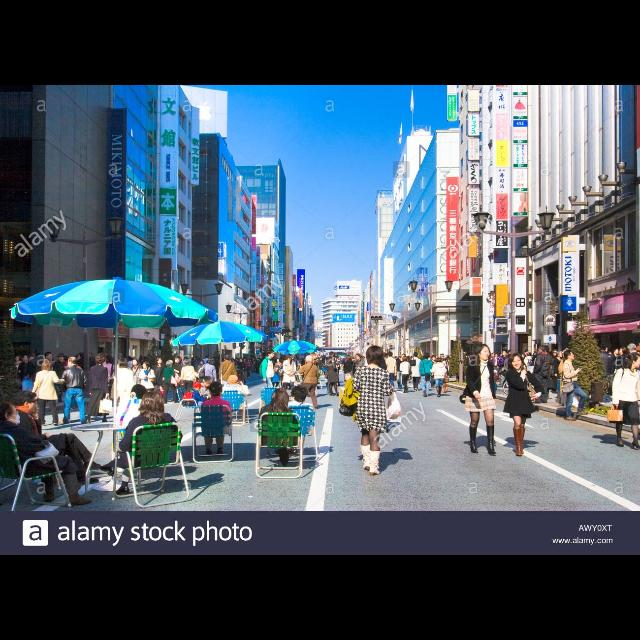head: (16, 392, 38, 414), (0, 403, 20, 425), (144, 392, 164, 413), (271, 389, 291, 409), (366, 346, 384, 364), (290, 387, 308, 403), (477, 344, 491, 362), (209, 383, 223, 397), (511, 355, 523, 371), (95, 354, 106, 366), (564, 351, 576, 362), (68, 357, 78, 369), (192, 383, 202, 393), (203, 378, 213, 388), (228, 376, 238, 386), (42, 362, 52, 371), (120, 358, 128, 368), (267, 350, 275, 360), (141, 362, 149, 370), (175, 356, 183, 364), (305, 356, 313, 364), (538, 346, 546, 354), (157, 357, 163, 365), (168, 360, 174, 368), (208, 358, 214, 366), (286, 356, 294, 362), (330, 352, 336, 360), (424, 352, 430, 360), (133, 359, 139, 366), (225, 355, 231, 361), (388, 352, 394, 358), (436, 358, 442, 364), (186, 360, 190, 366), (402, 358, 408, 362), (402, 354, 406, 360), (414, 353, 418, 357)
person: (0, 401, 92, 508), (100, 390, 186, 498), (6, 390, 102, 484), (338, 345, 396, 475), (459, 344, 498, 456), (504, 353, 546, 457), (258, 388, 302, 468), (280, 386, 316, 462), (200, 382, 233, 456), (31, 360, 67, 426), (558, 349, 590, 423), (84, 353, 112, 425), (60, 356, 88, 424), (112, 357, 138, 427), (219, 374, 251, 426), (296, 356, 320, 410), (180, 381, 212, 417), (259, 349, 281, 401), (534, 346, 552, 404), (179, 358, 199, 407), (218, 354, 240, 398), (320, 352, 342, 396), (198, 376, 218, 422), (280, 352, 300, 398), (196, 358, 218, 396), (138, 362, 156, 408), (170, 356, 186, 404), (160, 360, 177, 404), (418, 352, 434, 398), (430, 358, 448, 398), (128, 358, 144, 402), (154, 356, 168, 404), (382, 351, 398, 391), (399, 356, 413, 394), (410, 352, 422, 392), (396, 354, 408, 392)
